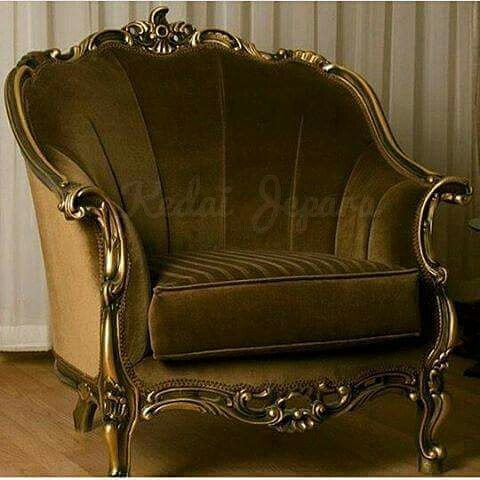Carving Chair: (8, 30, 468, 459)
